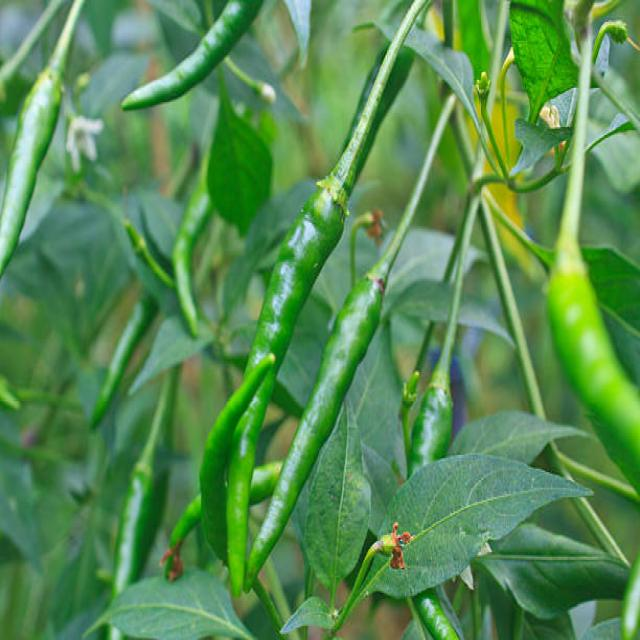Unripe: (247, 235, 399, 582), (226, 198, 344, 599), (197, 349, 271, 560), (121, 0, 262, 110)
